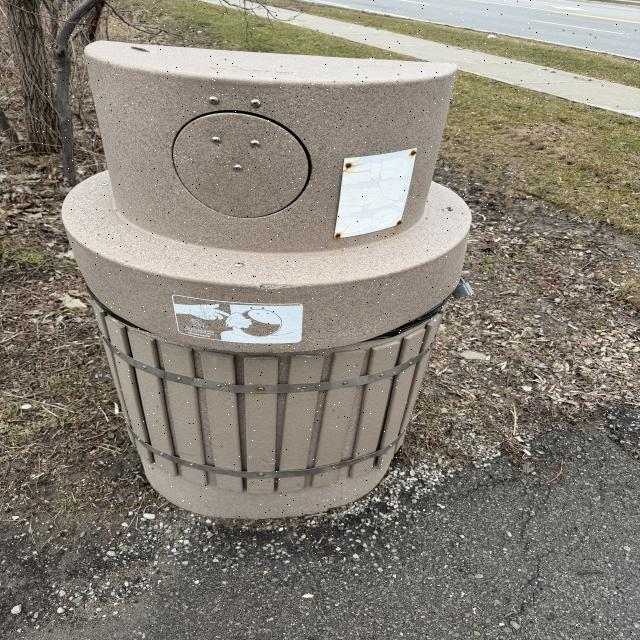Dustbin: (59, 40, 478, 524)
